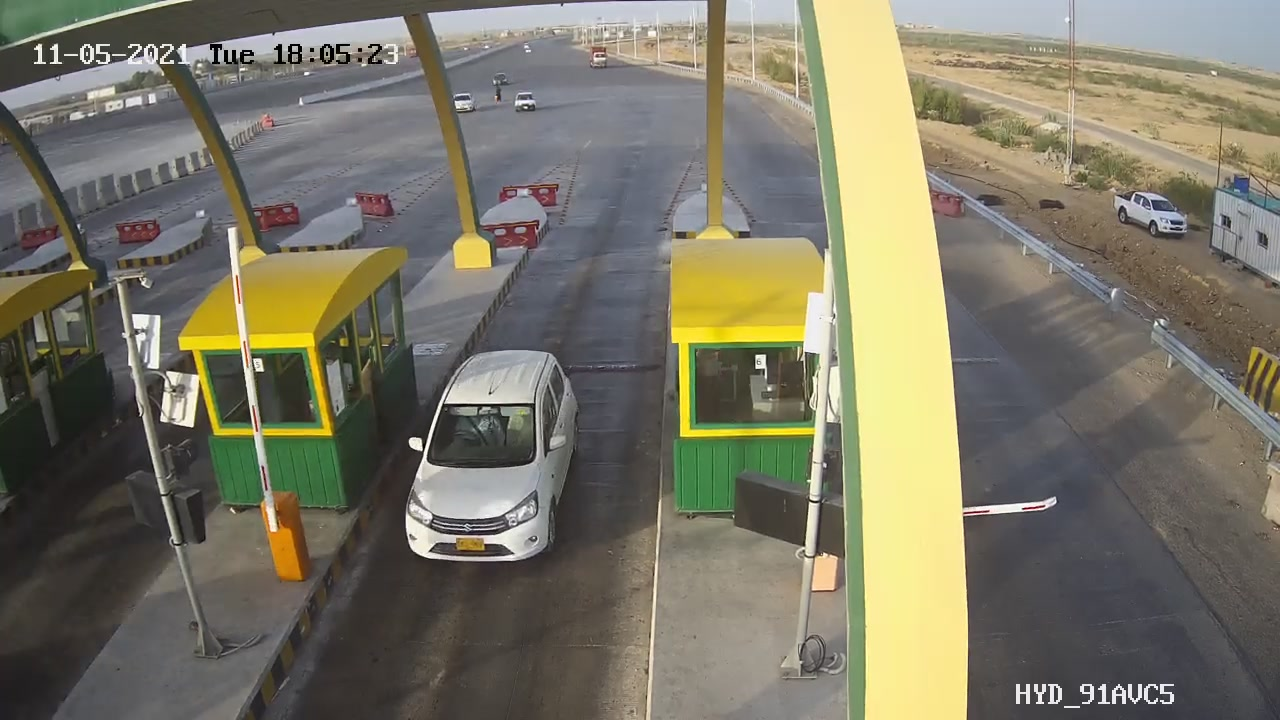F1: (392, 325, 596, 587)
